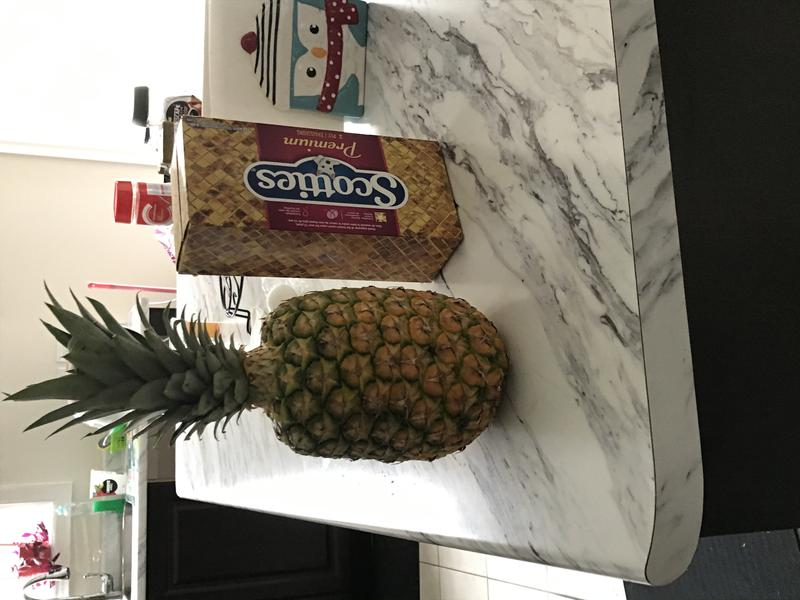pineapple: (19, 281, 517, 469)
